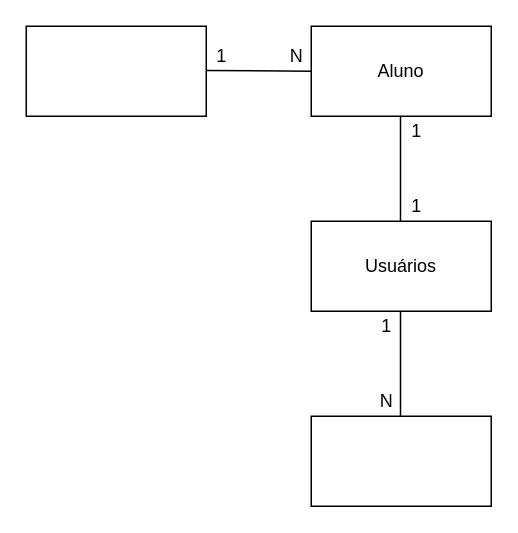
Some shapes in this 518 by 533 pixel diagram are drawn without their labels. Each missing label, with the centre of its shape:
"Tipo Usuário" belongs at pixel 400 460.
"Turma" belongs at pixel 115 70.
